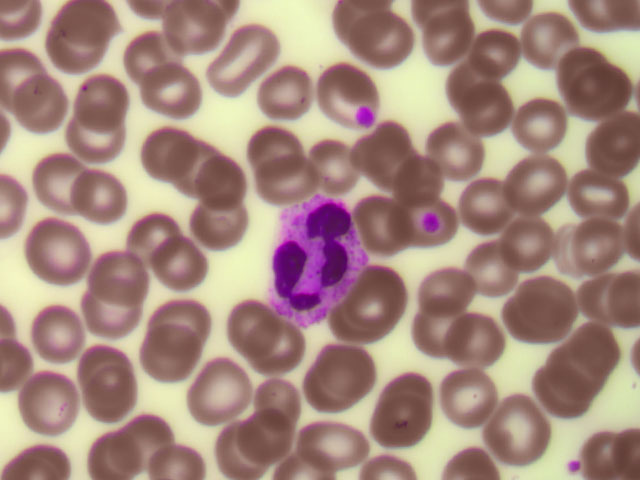Platelets: (359, 109, 376, 122)
RBC: (13, 76, 67, 135), (70, 65, 124, 124), (49, 18, 103, 77), (122, 27, 176, 86), (155, 61, 209, 120), (214, 24, 268, 83), (261, 65, 315, 124), (242, 116, 296, 175), (270, 158, 324, 217), (199, 152, 253, 211), (172, 134, 226, 193), (141, 130, 195, 189), (79, 171, 133, 230), (47, 154, 101, 213), (71, 112, 125, 171), (30, 227, 84, 286), (89, 249, 143, 308), (76, 289, 130, 348), (128, 205, 182, 264), (158, 236, 212, 295), (199, 193, 253, 252), (153, 292, 207, 351), (140, 329, 194, 388), (92, 368, 146, 427), (74, 333, 128, 392), (24, 382, 78, 441), (25, 308, 79, 367), (81, 421, 135, 480), (120, 403, 174, 462), (161, 421, 215, 480), (188, 361, 242, 420), (219, 295, 273, 354), (241, 320, 295, 379), (260, 371, 314, 430), (247, 401, 301, 460), (215, 418, 269, 477), (289, 421, 343, 480), (318, 343, 372, 402), (339, 273, 393, 332), (411, 295, 465, 354), (422, 263, 476, 322), (459, 238, 513, 297), (494, 215, 548, 274), (461, 178, 515, 237), (509, 156, 563, 215), (434, 126, 488, 185), (399, 145, 453, 204), (364, 123, 418, 182), (344, 202, 398, 261), (307, 129, 361, 188), (316, 52, 370, 111), (351, 18, 405, 77), (321, 5, 375, 64), (413, 14, 467, 73), (471, 12, 525, 71), (448, 44, 502, 103), (466, 83, 520, 142), (518, 97, 572, 156), (553, 35, 607, 94), (578, 63, 632, 122), (525, 6, 579, 65), (586, 110, 640, 169), (568, 163, 622, 222), (571, 209, 625, 268), (543, 227, 597, 286), (517, 279, 571, 338), (493, 287, 547, 346), (453, 309, 507, 368), (441, 357, 495, 416), (483, 394, 537, 453), (531, 366, 585, 425), (556, 320, 610, 379), (384, 363, 438, 422), (375, 393, 429, 452), (160, 1, 214, 59), (1, 21, 54, 80)
WBC: (261, 192, 362, 321)
